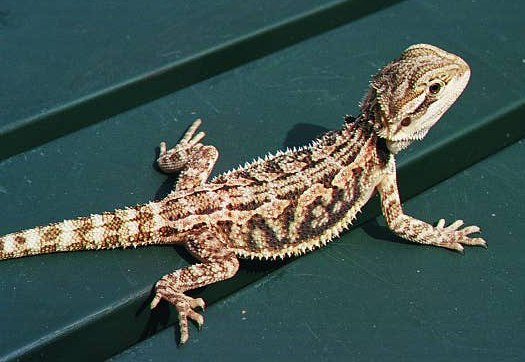bearded: (1, 40, 488, 346)
